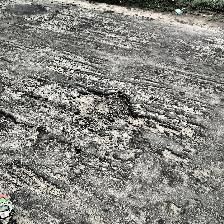pothole: (72, 88, 146, 130)
